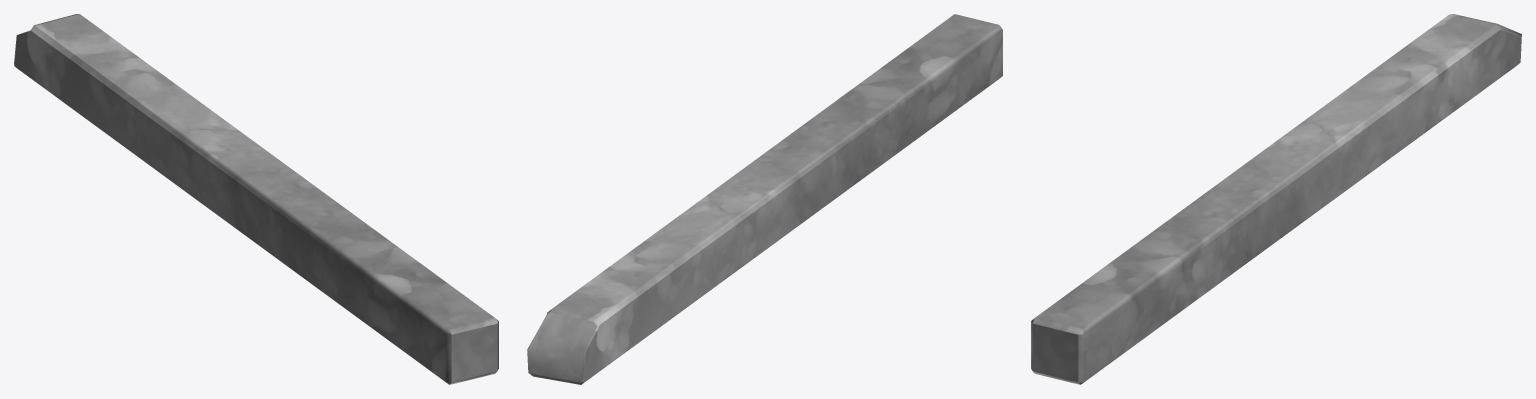
The model's file is SM_Plank_4m_01b.fbx.
3 renders of one model, left to right at view 1: azimuth 30°, elevation 25°; view 2: azimuth 150°, elevation 25°; view 3: azimuth 330°, elevation 25°, orthographic. The views are drawn at different scales.
Visible parts, largest first — view 1: SM_Plank_4m_01b_LOD0; view 2: SM_Plank_4m_01b_LOD0; view 3: SM_Plank_4m_01b_LOD0.
Part boxes in pixels (left/top/right/bottom): SM_Plank_4m_01b_LOD0: left=14, top=14, right=498, bottom=384; SM_Plank_4m_01b_LOD0: left=527, top=14, right=1002, bottom=384; SM_Plank_4m_01b_LOD0: left=1031, top=14, right=1521, bottom=384.
Bounding box in the file's own units: 20 × 285 × 20.
